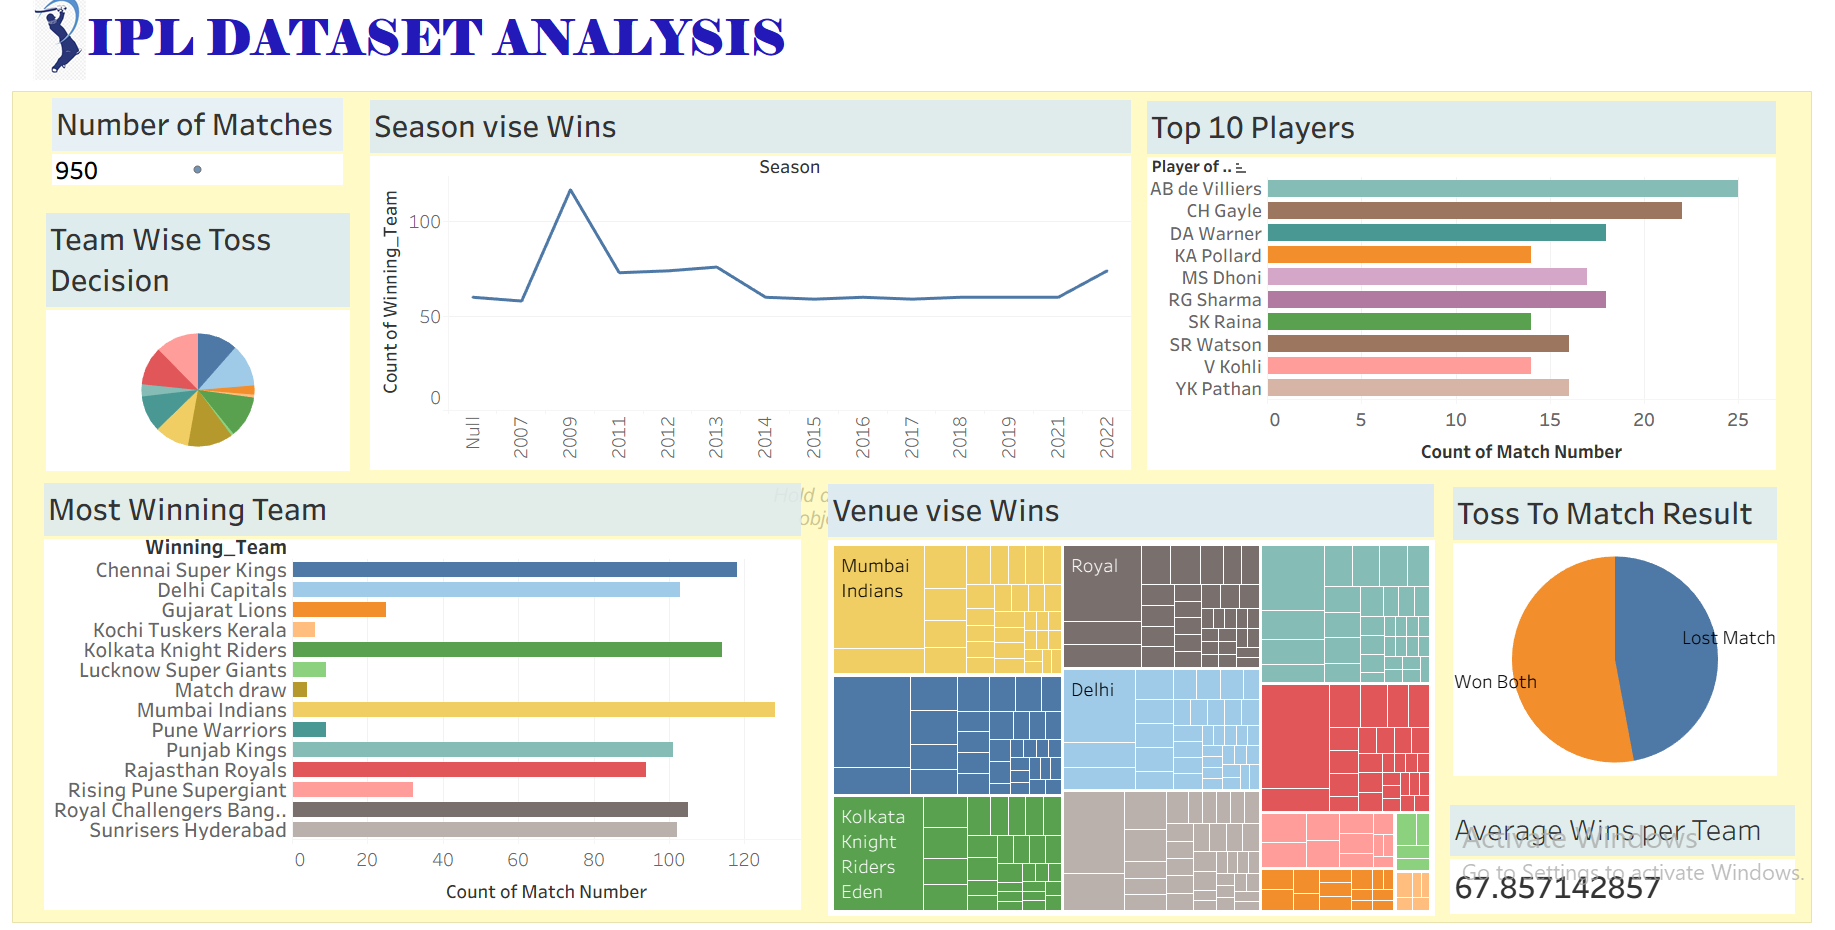

The page's visual inventory and layout, read from the dashboard file:
{"tool":"tableau","page":{"name":"Dashboard 1","canvas":[1000,1000],"units":"permille","ordinal":0},"visuals":[{"type":"image","param":"C:/Users/NEW/Downloads/ipl.jpeg","box":[23.2,2.1,46.5,97.9]},{"type":"worksheet","title":"Sheet 5","mark":"Multipolygon","box":[33.5,117.7,157.3,90.6]},{"type":"worksheet","title":"Sheet 2","mark":"Automatic","rows":["Calculation_1690257300896116739"],"cols":["Season"],"box":[205.4,119.8,411.4,385.4]},{"type":"worksheet","title":"Sheet 7","mark":"Automatic","rows":["Player_of_Match"],"cols":["MatchNumber"],"box":[625.4,120.8,340,384.4]},{"type":"worksheet","title":"Sheet 4","mark":"Pie","box":[30.3,237.5,164.3,268.8]},{"type":"worksheet","title":"Sheet 1","mark":"Automatic","rows":["Calculation_1690257300896116739"],"cols":["MatchNumber"],"box":[29.2,518.8,409.2,459.4]},{"type":"worksheet","title":"Sheet 8","mark":"Automatic","box":[453,519.8,336.2,450]},{"type":"worksheet","title":"Sheet 10","mark":"Pie","box":[790.8,522.9,175.1,301]},{"type":"worksheet","title":"Sheet 11","mark":"Text","box":[789.2,854.2,186.5,128.1]}]}

Visuals, with their boxes on the dashboard's canvas, which has no fixed pixel size, in thousandths of its width and height (x1, y1, x2, y2). These are canvas units, not pixel positions in the 1835x930 screenshot, which may show the page scaled, cropped or inside an application window:
image: bbox=[23, 2, 70, 100]
"Sheet 5" worksheet (Multipolygon marks): bbox=[34, 118, 191, 208]
"Sheet 2" worksheet: bbox=[205, 120, 617, 505]
"Sheet 7" worksheet: bbox=[625, 121, 965, 505]
"Sheet 4" worksheet (Pie marks): bbox=[30, 238, 195, 506]
"Sheet 1" worksheet: bbox=[29, 519, 438, 978]
"Sheet 8" worksheet: bbox=[453, 520, 789, 970]
"Sheet 10" worksheet (Pie marks): bbox=[791, 523, 966, 824]
"Sheet 11" worksheet (Text marks): bbox=[789, 854, 976, 982]
